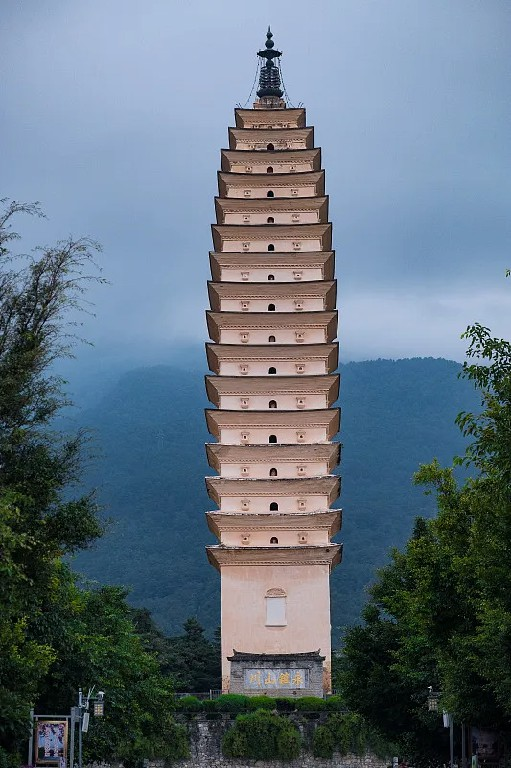ThreePagoda: (204, 27, 342, 697)
